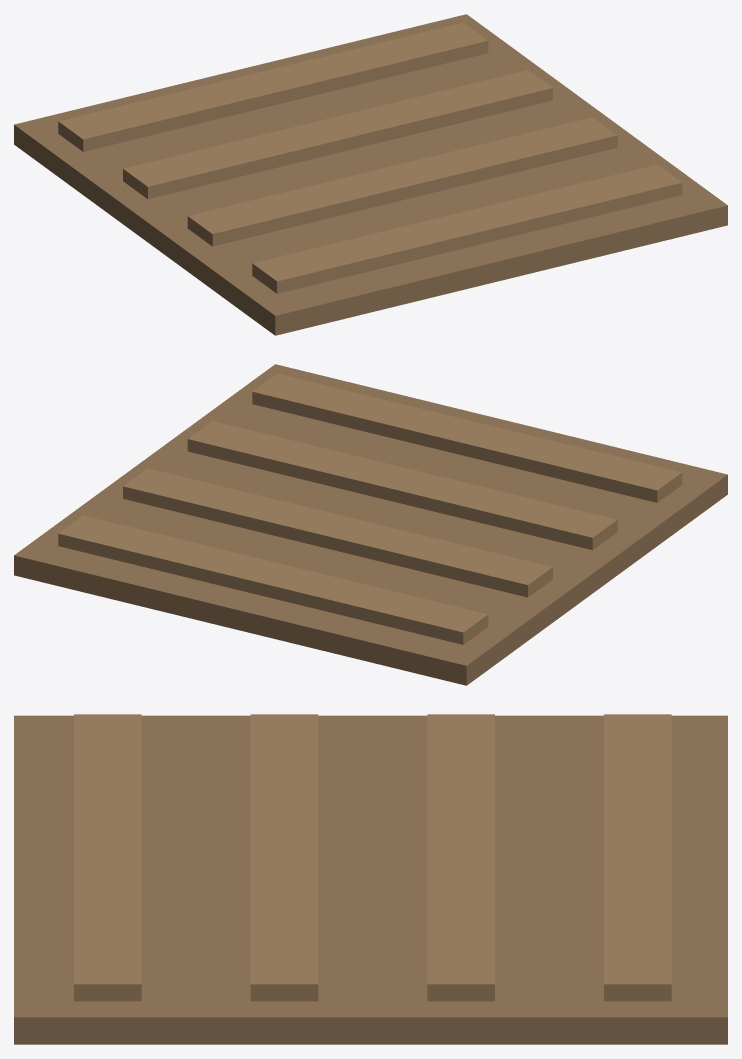
File: farm_plot.glb
3 views of the same model, one above another, from view 1: azimuth 30°, elevation 25°; view 2: azimuth 150°, elevation 25°; view 3: azimuth 270°, elevation 25° (orthographic). The views are drawn at different scales.
Parts seen in each view (by area): view 1: soil, row1, row0, row3, row2; view 2: soil, row0, row3, row1, row2; view 3: soil, row1, row0, row2, row3.
Boxes of the visible parts, box(x1,y1,x2,y2) form: soil: box(14, 14, 727, 335); row1: box(187, 117, 617, 246); row0: box(252, 164, 682, 293); row3: box(58, 22, 488, 151); row2: box(123, 70, 552, 199); soil: box(14, 364, 727, 685); row0: box(252, 373, 682, 502); row3: box(58, 515, 488, 644); row1: box(187, 421, 617, 550); row2: box(123, 468, 552, 597); soil: box(14, 715, 727, 1044); row1: box(250, 714, 318, 1001); row0: box(74, 714, 141, 1001); row2: box(427, 714, 494, 1001); row3: box(604, 714, 671, 1001).
Bounding box in the file's own units: 1.9 × 0.13 × 1.9.
